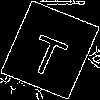T: (25, 25, 74, 80)
